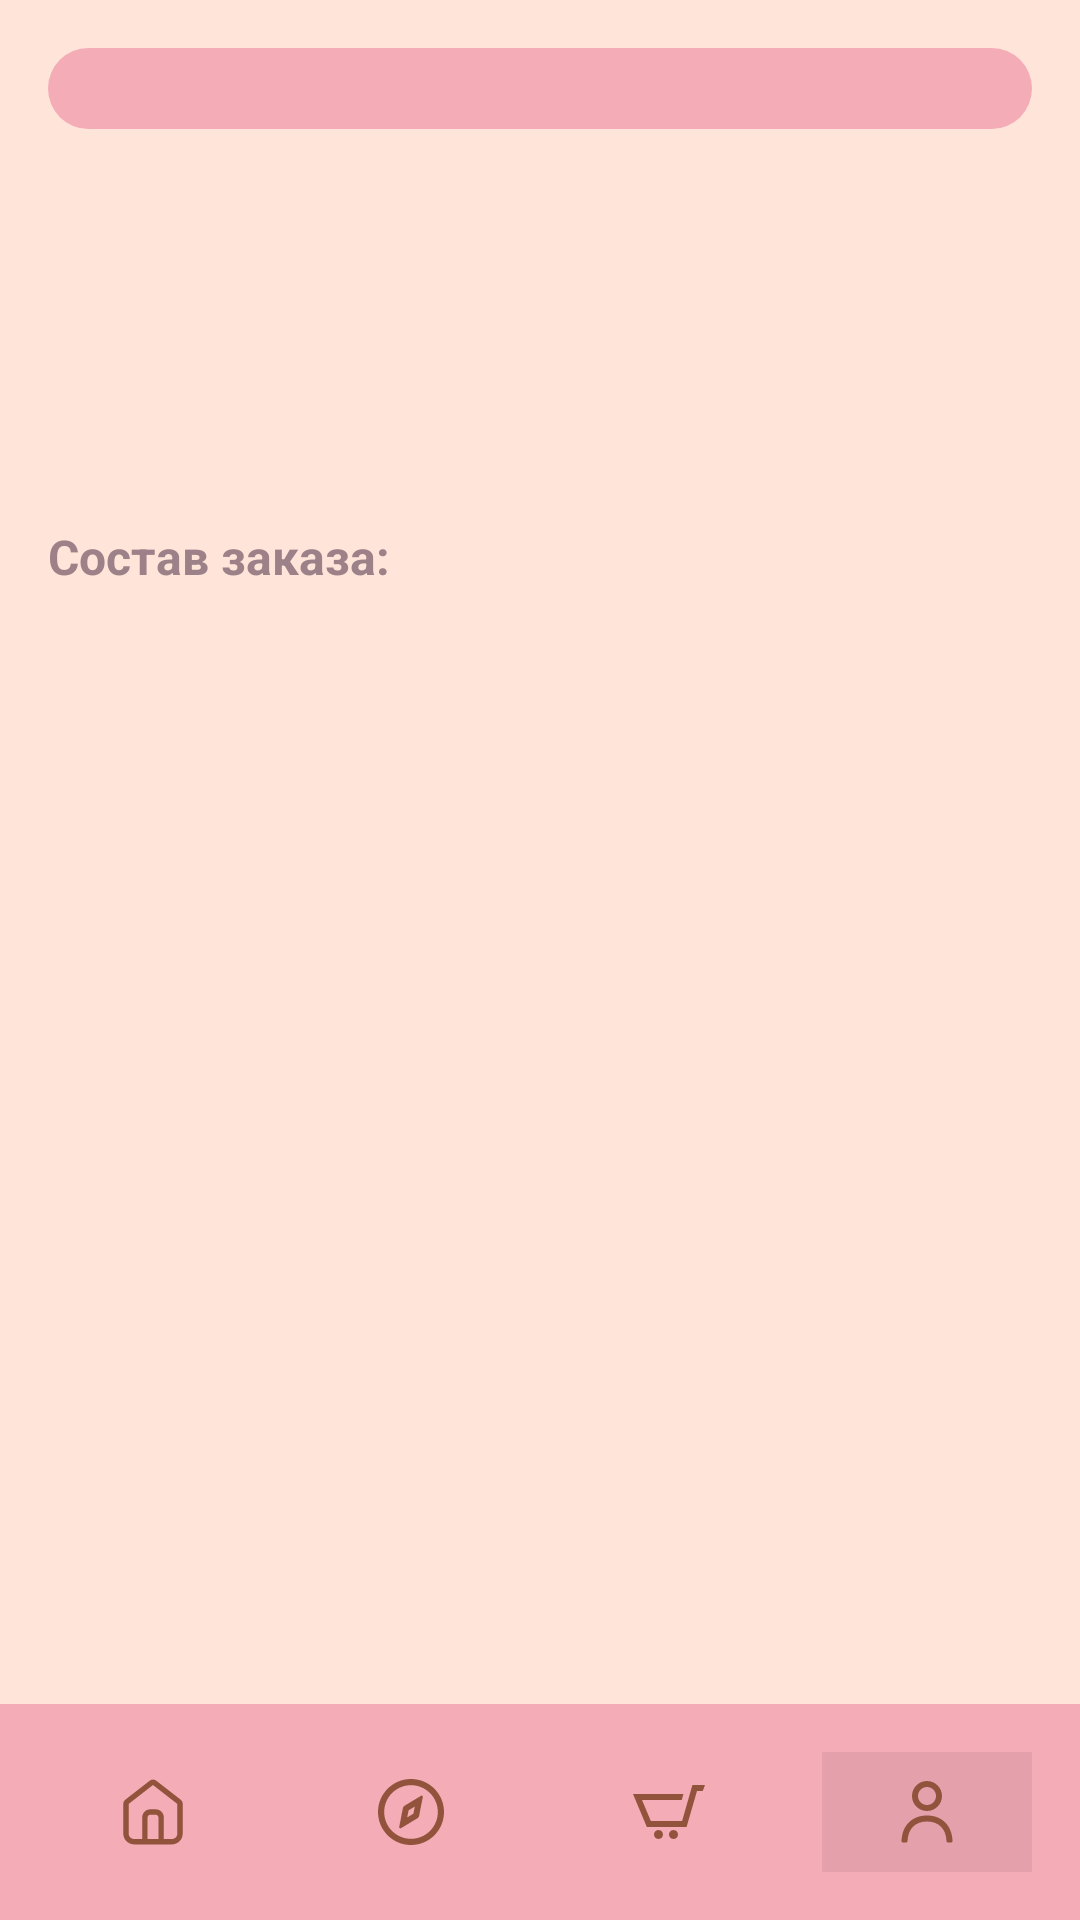

Named icons in this screenshot (1080*1920) and their bounding boxes, (x1, y1, x2, y2):
basket: (633, 1785, 705, 1839)
home: (123, 1779, 183, 1845)
profile: (822, 1752, 1032, 1872)
